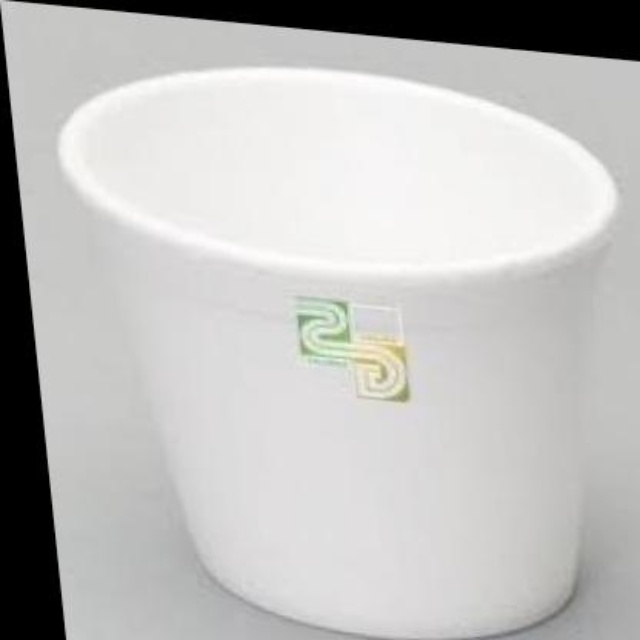trash: (58, 68, 615, 637)
